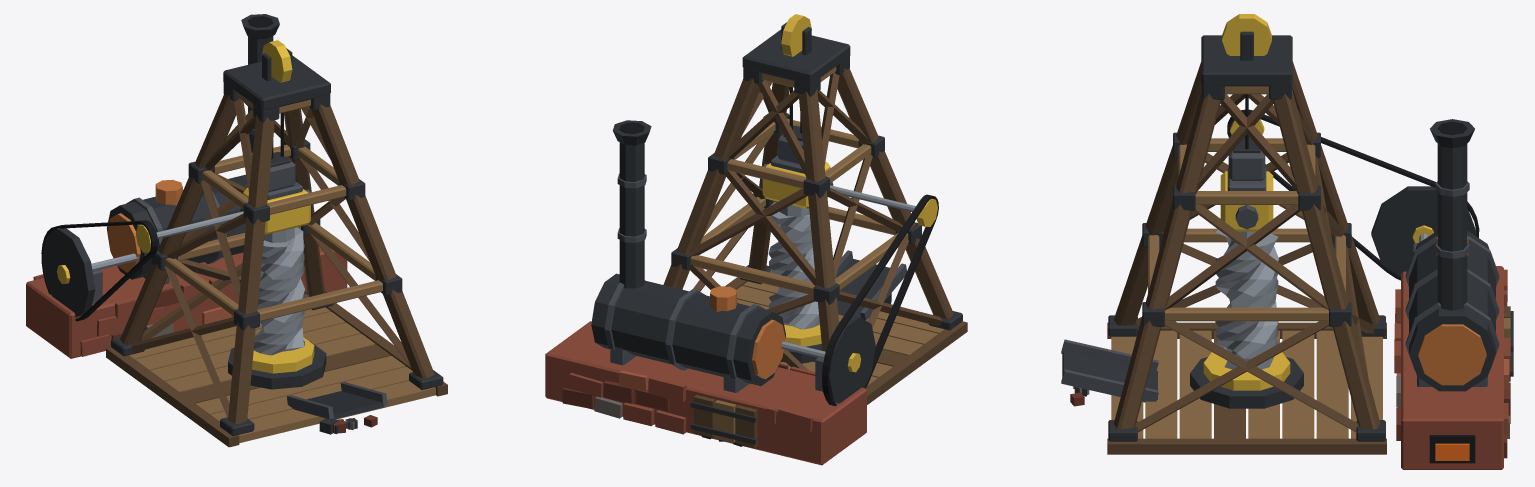
The model's file is foreuse_t1.glb.
3 renders of one model, left to right at view 1: azimuth 30°, elevation 25°; view 2: azimuth 150°, elevation 25°; view 3: azimuth 270°, elevation 25°, orthographic. The views are drawn at different scales.
Visible parts, largest first — view 1: pieces_bois_sombre.002, pieces_bois.002, socle_briques.002, pieces_fonte.007, foret_corps.006, tete.002, volant.002, chaudiere.002, pieces_brique.002, collier.004, pieces_acier_sombre.008, courroie.002 (+9 smaller); view 2: pieces_bois_sombre.002, socle_briques.002, chaudiere.002, pieces_bois.002, pieces_fonte.007, pieces_brique.002, tete.002, foret_corps.006, courroie.002, volant.002, pieces_acier_sombre.008, pieces_brique_sombre.005 (+9 smaller); view 3: pieces_bois_sombre.002, pieces_bois.002, pieces_fonte.007, socle_briques.002, chaudiere.002, foret_corps.006, volant.002, tete.002, chaudiere_fond_1.002, pieces_acier_sombre.008, collier.004, courroie.002 (+12 smaller).
Part boxes in pixels (left/top/right/bottom): pieces_bois_sombre.002: left=106, top=94, right=447, bottom=447; pieces_bois.002: left=129, top=92, right=435, bottom=443; socle_briques.002: left=26, top=246, right=347, bottom=358; pieces_fonte.007: left=111, top=36, right=443, bottom=436; foret_corps.006: left=253, top=227, right=304, bottom=355; tete.002: left=223, top=55, right=330, bottom=110; volant.002: left=42, top=228, right=95, bottom=317; chaudiere.002: left=106, top=174, right=247, bottom=279; pieces_brique.002: left=33, top=274, right=233, bottom=356; collier.004: left=228, top=341, right=326, bottom=389; pieces_acier_sombre.008: left=92, top=129, right=387, bottom=419; courroie.002: left=41, top=220, right=158, bottom=321; pieces_bois_sombre.002: left=663, top=68, right=967, bottom=448; socle_briques.002: left=545, top=321, right=866, bottom=465; chaudiere.002: left=591, top=273, right=785, bottom=385; pieces_bois.002: left=690, top=66, right=943, bottom=443; pieces_fonte.007: left=619, top=22, right=962, bottom=444; pieces_brique.002: left=568, top=366, right=815, bottom=434; tete.002: left=742, top=29, right=850, bottom=84; foret_corps.006: left=768, top=202, right=819, bottom=329; courroie.002: left=822, top=194, right=938, bottom=406; volant.002: left=829, top=315, right=875, bottom=403; pieces_acier_sombre.008: left=610, top=173, right=906, bottom=392; pieces_brique_sombre.005: left=562, top=363, right=788, bottom=411; pieces_bois_sombre.002: left=1107, top=61, right=1510, bottom=454; pieces_bois.002: left=1111, top=86, right=1510, bottom=438; pieces_fonte.007: left=1062, top=31, right=1513, bottom=441; socle_briques.002: left=1401, top=266, right=1503, bottom=469; chaudiere.002: left=1409, top=231, right=1495, bottom=391; foret_corps.006: left=1215, top=229, right=1278, bottom=369; volant.002: left=1371, top=186, right=1476, bottom=275; tete.002: left=1201, top=35, right=1292, bottom=86; chaudiere_fond_1.002: left=1418, top=324, right=1486, bottom=385; pieces_acier_sombre.008: left=1061, top=181, right=1487, bottom=402; collier.004: left=1190, top=357, right=1303, bottom=408; courroie.002: left=1227, top=109, right=1479, bottom=280.
Bounding box in the file's own units: 2.01 × 2.23 × 2.5.
